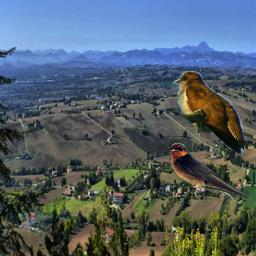Cuckoo: (172, 71, 244, 156)
Swallow: (169, 141, 249, 198)
